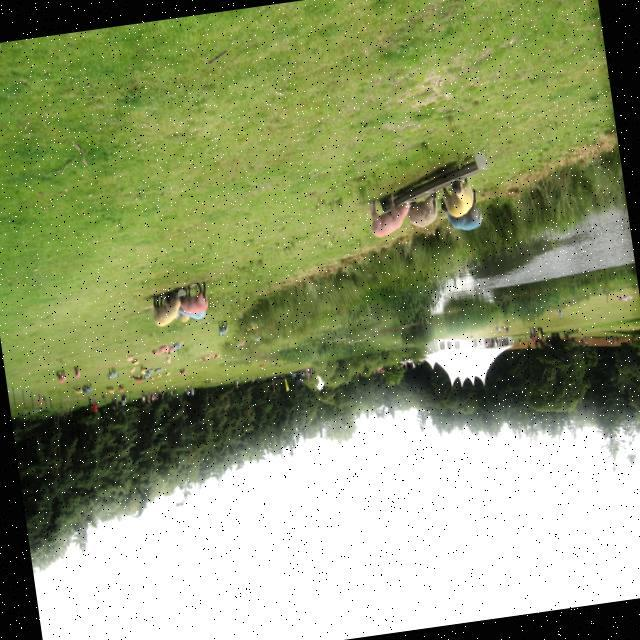sheep: (369, 196, 411, 236), (407, 194, 437, 227)
